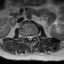CCS_normal: (28, 33, 31, 43)
LFS_normal: (33, 32, 35, 39)
LLS_normal: (31, 33, 33, 41)
RFS_normal: (23, 32, 26, 40)
RLS_stenosis: (26, 33, 28, 41)
